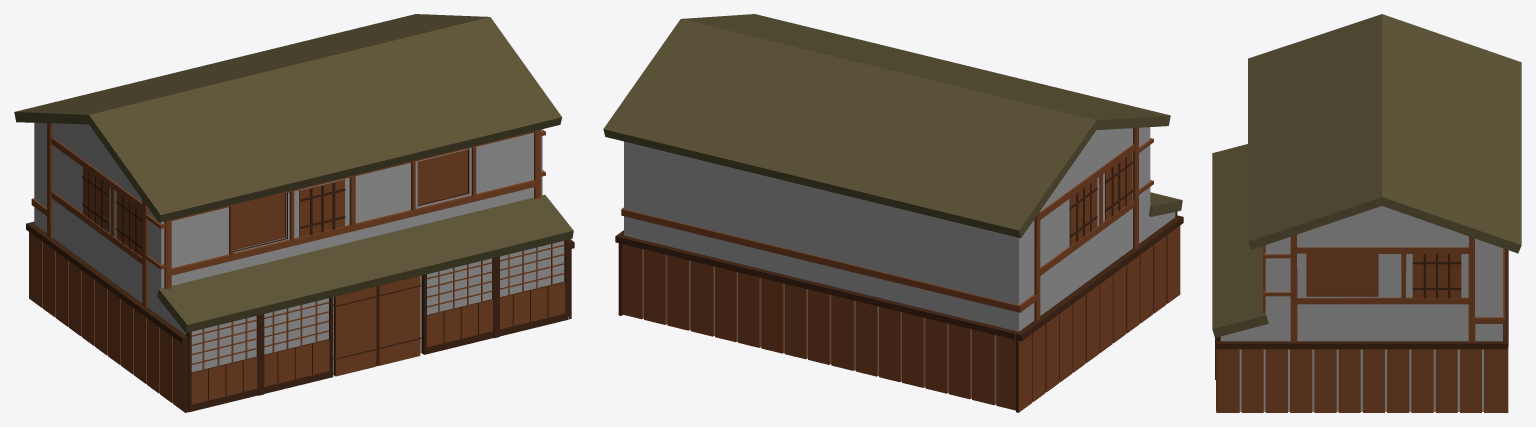
File: Casa2Andar.fbx
3 views of the same model, side by side, from view 1: azimuth 30°, elevation 25°; view 2: azimuth 150°, elevation 25°; view 3: azimuth 270°, elevation 25° (orthographic). The views are drawn at different scales.
Visible parts, largest first — view 1: TelhadoCasa, CasaBase, ParedeEntrada, ParedesLaterais, MadeirasEstrutura, PortaCasa, Janela; view 2: TelhadoCasa, CasaBase, ParedesLaterais, MadeirasEstrutura, Janela; view 3: TelhadoCasa, CasaBase, ParedesLaterais, MadeirasEstrutura, Janela.
Boxes of the visible parts, <box> form: TelhadoCasa: <box>14,14,573,332</box>; CasaBase: <box>34,122,542,374</box>; ParedeEntrada: <box>186,240,568,412</box>; ParedesLaterais: <box>26,221,574,412</box>; MadeirasEstrutura: <box>31,123,545,307</box>; PortaCasa: <box>333,276,421,376</box>; Janela: <box>82,167,345,256</box>; TelhadoCasa: <box>603,14,1182,238</box>; CasaBase: <box>624,127,1175,404</box>; ParedesLaterais: <box>615,215,1183,412</box>; MadeirasEstrutura: <box>621,127,1153,320</box>; Janela: <box>1069,152,1132,246</box>; TelhadoCasa: <box>1212,14,1521,337</box>; CasaBase: <box>1220,206,1502,411</box>; ParedesLaterais: <box>1216,249,1508,412</box>; MadeirasEstrutura: <box>1263,234,1504,342</box>; Janela: <box>1412,254,1461,298</box>.
Size of the model in its own units: 1545 by 867 by 1104.
